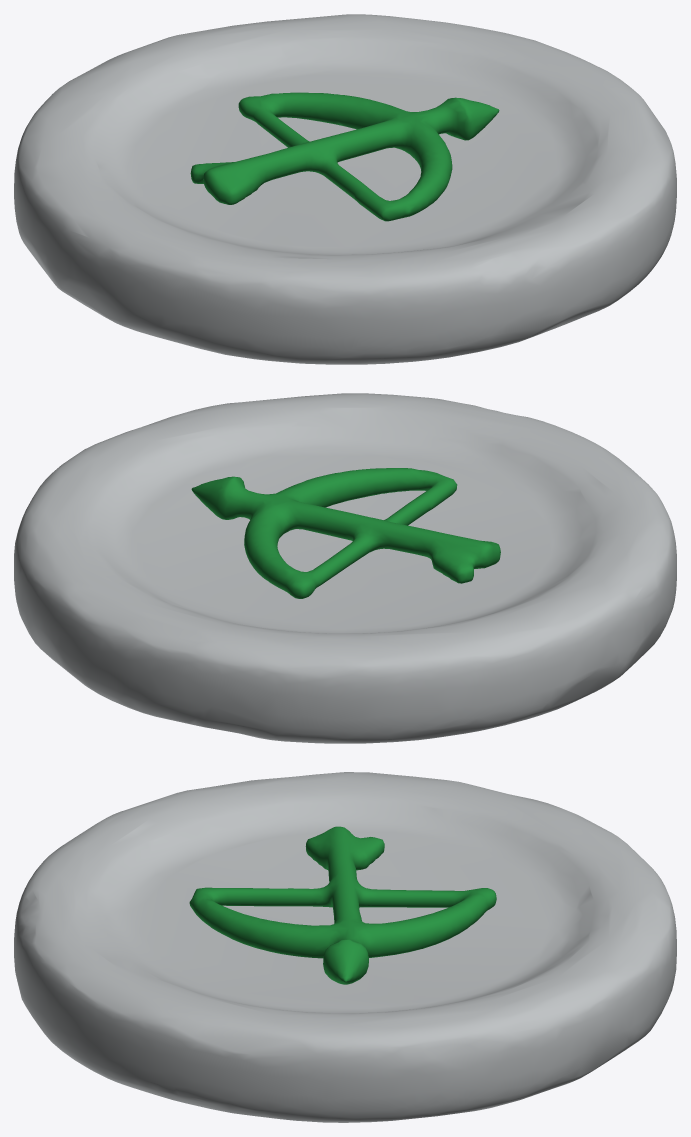
Rendered from token-archer-blue-draco.glb.
3 views of the same model, one above another, from view 1: azimuth 30°, elevation 25°; view 2: azimuth 150°, elevation 25°; view 3: azimuth 270°, elevation 25° (orthographic).
Visible parts, largest first — view 1: token_archer_blue; view 2: token_archer_blue; view 3: token_archer_blue.
Boxes of the visible parts, <box> form: token_archer_blue: <box>14,14,676,364</box>; token_archer_blue: <box>14,393,676,743</box>; token_archer_blue: <box>14,772,676,1122</box>.
Bounding box in the file's own units: 0.4139 × 0.0746 × 0.414.
